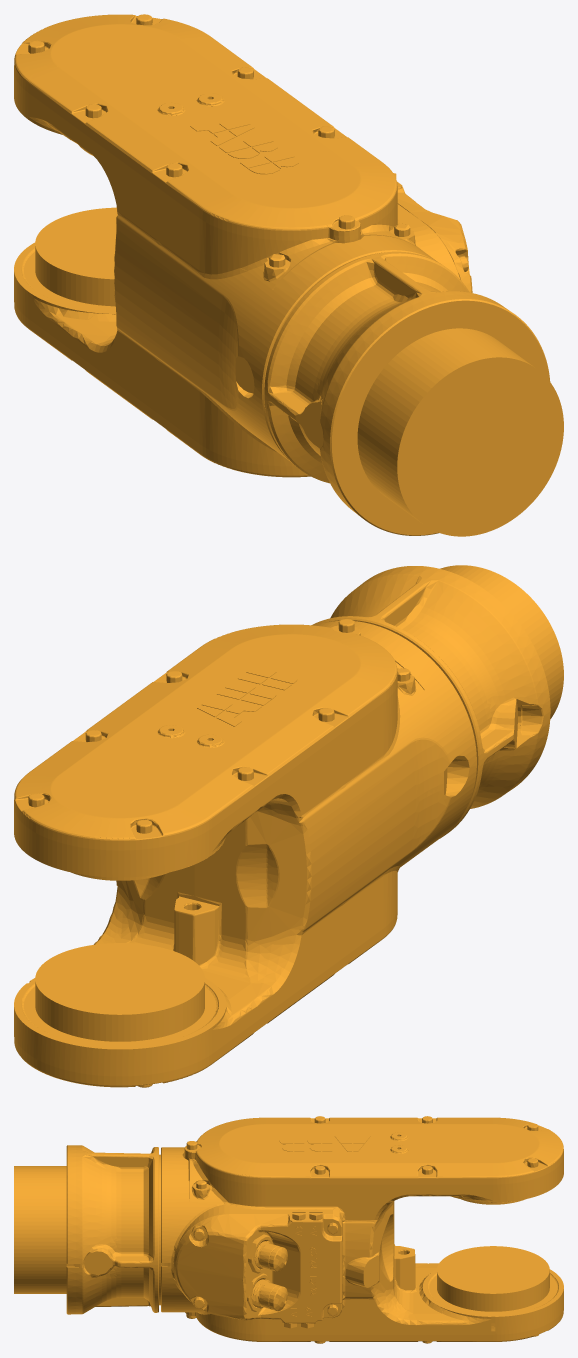
The model's file is ABBIRB1100Link4.dae.
3 views of the same model, one above another, from view 1: azimuth 30°, elevation 25°; view 2: azimuth 150°, elevation 25°; view 3: azimuth 270°, elevation 25° (orthographic). The views are drawn at different scales.
Parts seen in each view (by area): view 1: irb1100Link4; view 2: irb1100Link4; view 3: irb1100Link4.
Part boxes in pixels (x1=…): irb1100Link4: x1=14, y1=14, x2=563, y2=536; irb1100Link4: x1=14, y1=565, x2=563, y2=1087; irb1100Link4: x1=14, y1=1116, x2=563, y2=1343.
Size of the model in its own units: 0.1127 by 0.292 by 0.103.
